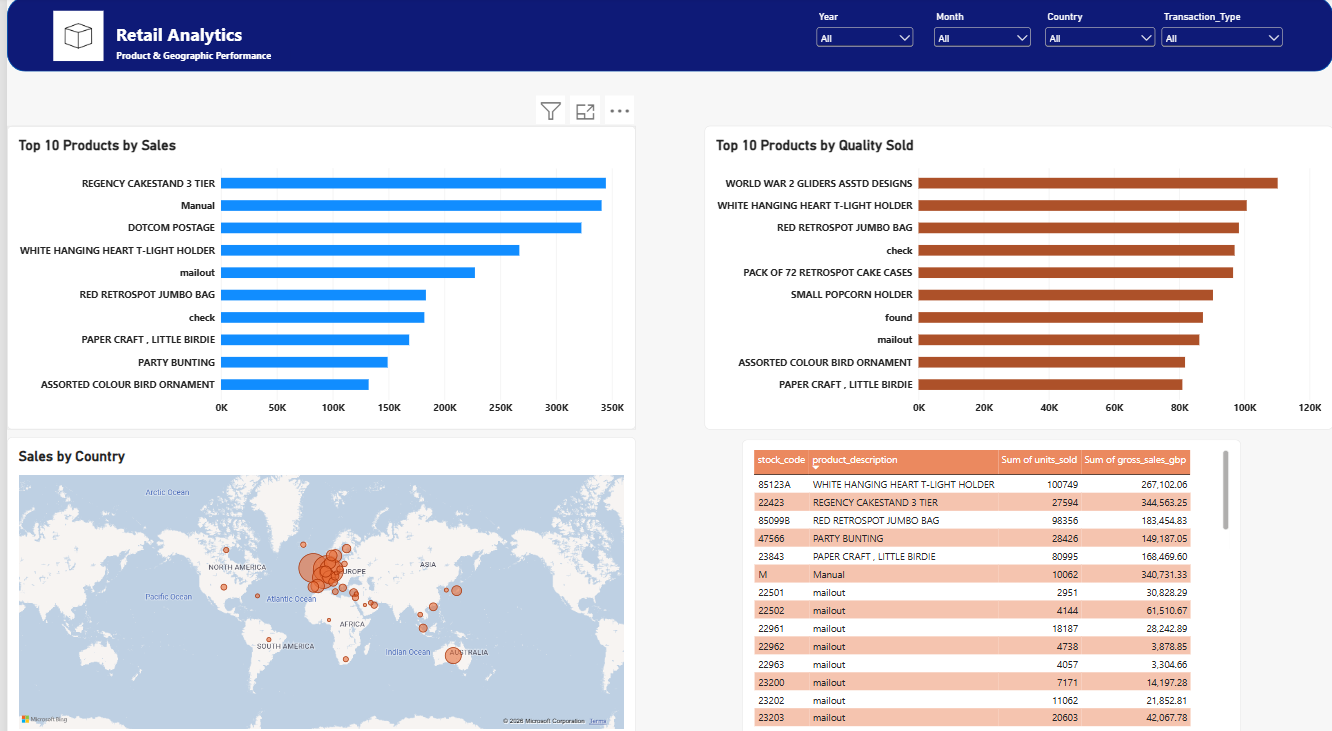

The dashboard page shown, as its layout file describes it:
{"tool":"powerbi","page":{"name":"Page 2","canvas":[1920,1080],"ordinal":1},"visuals":[{"type":"shape","box":[0,0,1920,108],"z":0},{"type":"clusteredBarChart","title":"Top 10 Products by Sales","fields":{"Category":["Product_Performance.product_description"],"Y":["Sum(Product_Performance.gross_sales_gbp)"]},"box":[0,186.7,910,440],"z":1000},{"type":"clusteredBarChart","title":"Top 10 Products by Quality Sold","fields":{"Category":["Product_Performance.product_description"],"Y":["Sum(Product_Performance.units_sold)"]},"box":[1010,186.7,910,440],"z":2000},{"type":"map","title":"Sales by Country","fields":{"Category":["International_Sales.country"],"Size":["Sum(International_Sales.gross_sales_gbp)"]},"box":[0,637,910,440],"z":3000},{"type":"tableEx","fields":{"Values":["Product_Performance.stock_code","Product_Performance.product_description","Sum(Product_Performance.units_sold)","Sum(Product_Performance.gross_sales_gbp)"]},"box":[1064,640,722,440],"z":4000},{"type":"shape","box":[130,74,280,21.2],"z":5000},{"type":"slicer","fields":{"Values":["transactions.year"]},"box":[1168,20,150,76],"z":6000},{"type":"slicer","fields":{"Values":["transactions.month"]},"box":[1338,20,150,76],"z":7000},{"type":"slicer","fields":{"Values":["transactions.country"]},"box":[1498,20,169,76],"z":8000},{"type":"slicer","fields":{"Values":["transactions.transaction_type"]},"box":[1667,20,185,71],"z":9000},{"type":"image","box":[67.5,20,72.5,72.5],"z":9001}]}

Visuals, with their boxes in screenshot pixels (x1, y1, x2, y2), scaled from the page's 1920x1080 canvas onto the 1332x731 screenshot:
shape: 0/0/1331/73
"Top 10 Products by Sales" clusteredBarChart: 0/126/631/424
"Top 10 Products by Quality Sold" clusteredBarChart: 701/126/1331/424
"Sales by Country" map: 0/431/631/729
tableEx - Product_Performance.stock_code x Product_Performance.product_description: 738/433/1239/730
shape: 90/50/284/64
slicer - transactions.year: 810/14/914/65
slicer - transactions.month: 928/14/1032/65
slicer - transactions.country: 1039/14/1156/65
slicer - transactions.transaction_type: 1156/14/1285/62
image: 47/14/97/63
